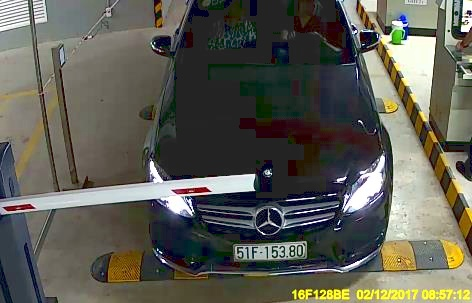plate: (230, 240, 309, 261)
